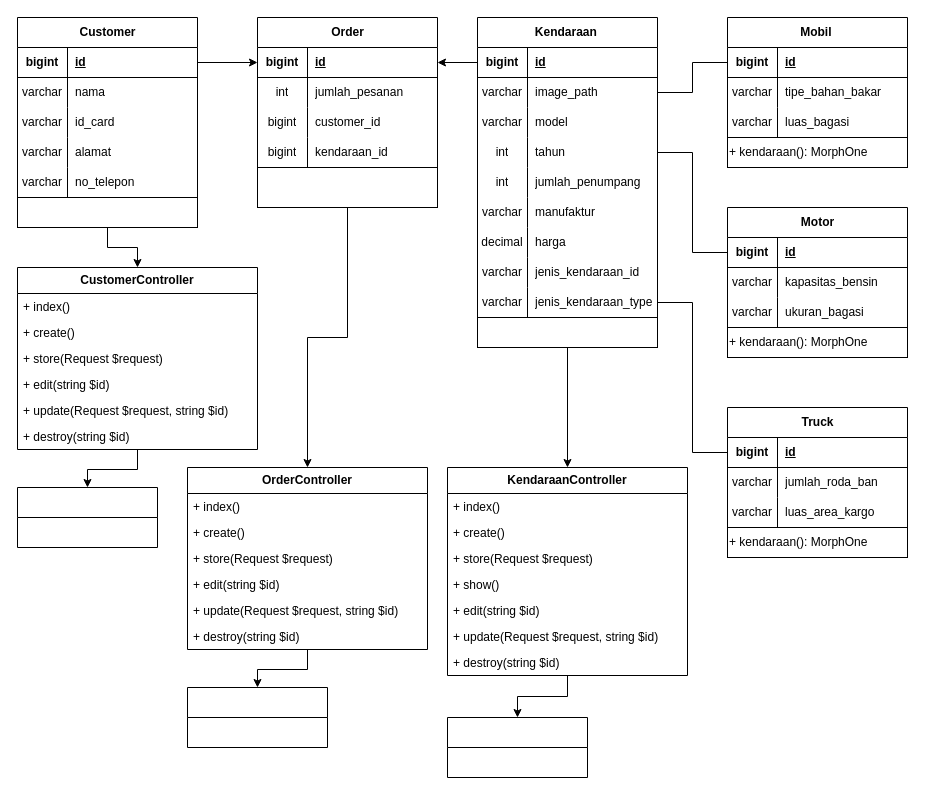
The diagram is 925 pixels wide and 795 high, and some of its shapes have lost their labels. The shapes that lost their labels are listed below. From the top down, each one's centre as x and y in pixels, then its label:
(x=347, y=187): + customer(): BelongsTo + kendaraan(): BelongsTo
(x=107, y=212): + orders(): HasMany
(x=567, y=332): + jenis_kendaraan(): MorphTo
(x=87, y=517): CustomerView
(x=257, y=717): OrderView
(x=517, y=747): KendaraanView
